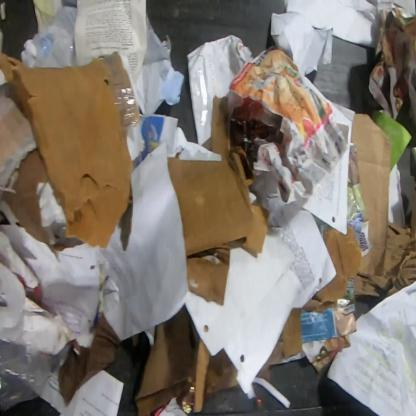cardboard: (0, 50, 135, 250), (168, 95, 270, 306), (132, 304, 200, 415), (350, 112, 392, 280), (354, 200, 415, 299), (0, 145, 49, 245), (205, 349, 239, 400), (192, 337, 210, 415), (280, 307, 302, 360), (50, 245, 70, 253)
metal: (180, 385, 196, 415)
soft_plastic: (0, 309, 73, 413), (100, 50, 141, 129), (31, 4, 79, 68), (42, 219, 82, 250), (161, 34, 172, 57)
